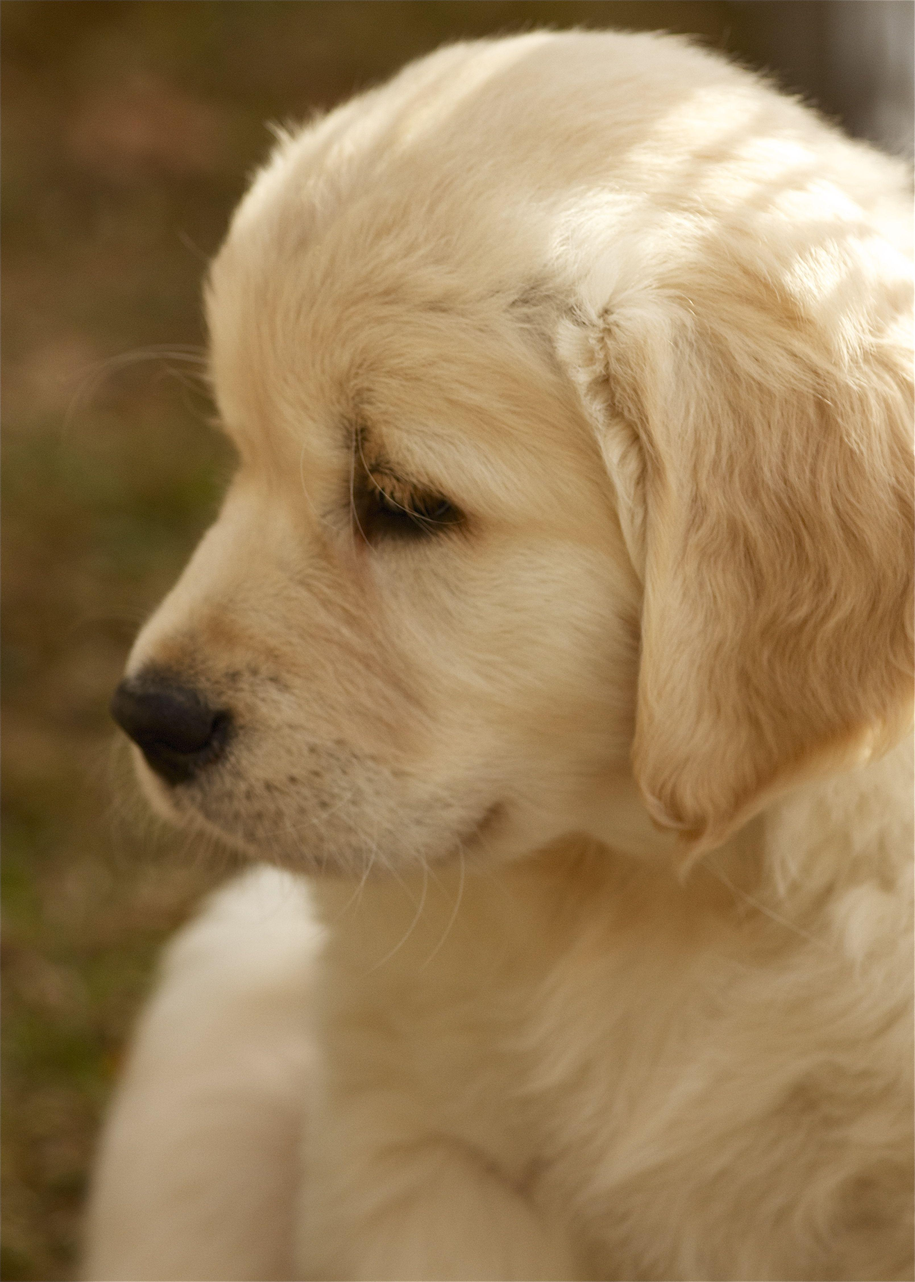puppy-dog: (78, 22, 915, 1282)
